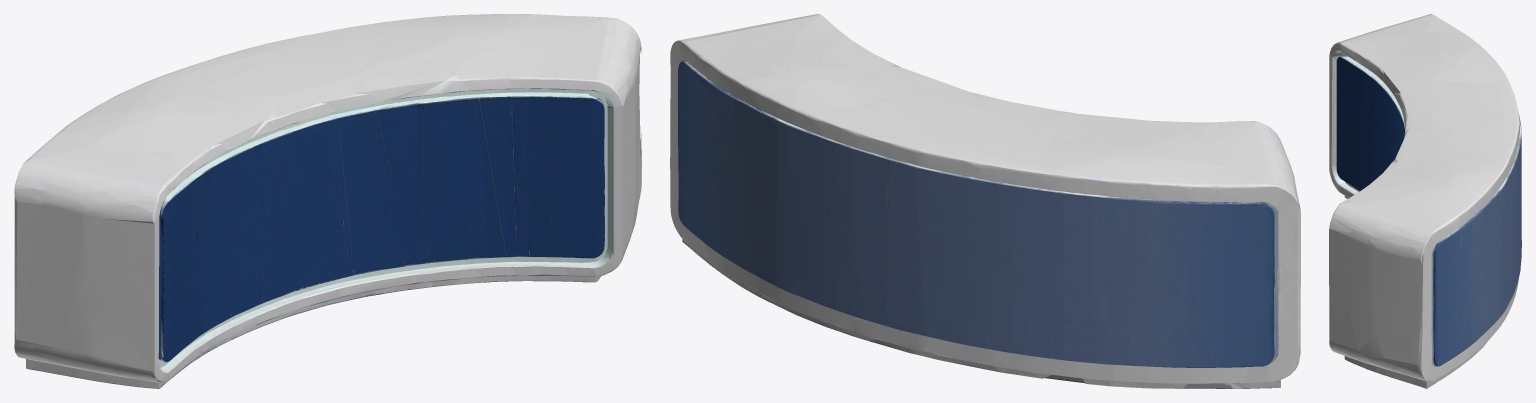
File: news_anchor_desk.glb
3 views of the same model, side by side, from view 1: azimuth 30°, elevation 25°; view 2: azimuth 150°, elevation 25°; view 3: azimuth 270°, elevation 25° (orthographic). The views are drawn at different scales.
Parts seen in each view (by area): view 1: Mesh_0; view 2: Mesh_0; view 3: Mesh_0.
Boxes of the visible parts, bbox=[...] form: Mesh_0: bbox=[14, 14, 641, 388]; Mesh_0: bbox=[670, 14, 1300, 388]; Mesh_0: bbox=[1329, 14, 1521, 388].
Bounding box in the file's own units: 3.5 × 1.13 × 1.23.
Materials: 1 (1 with a texture image).
